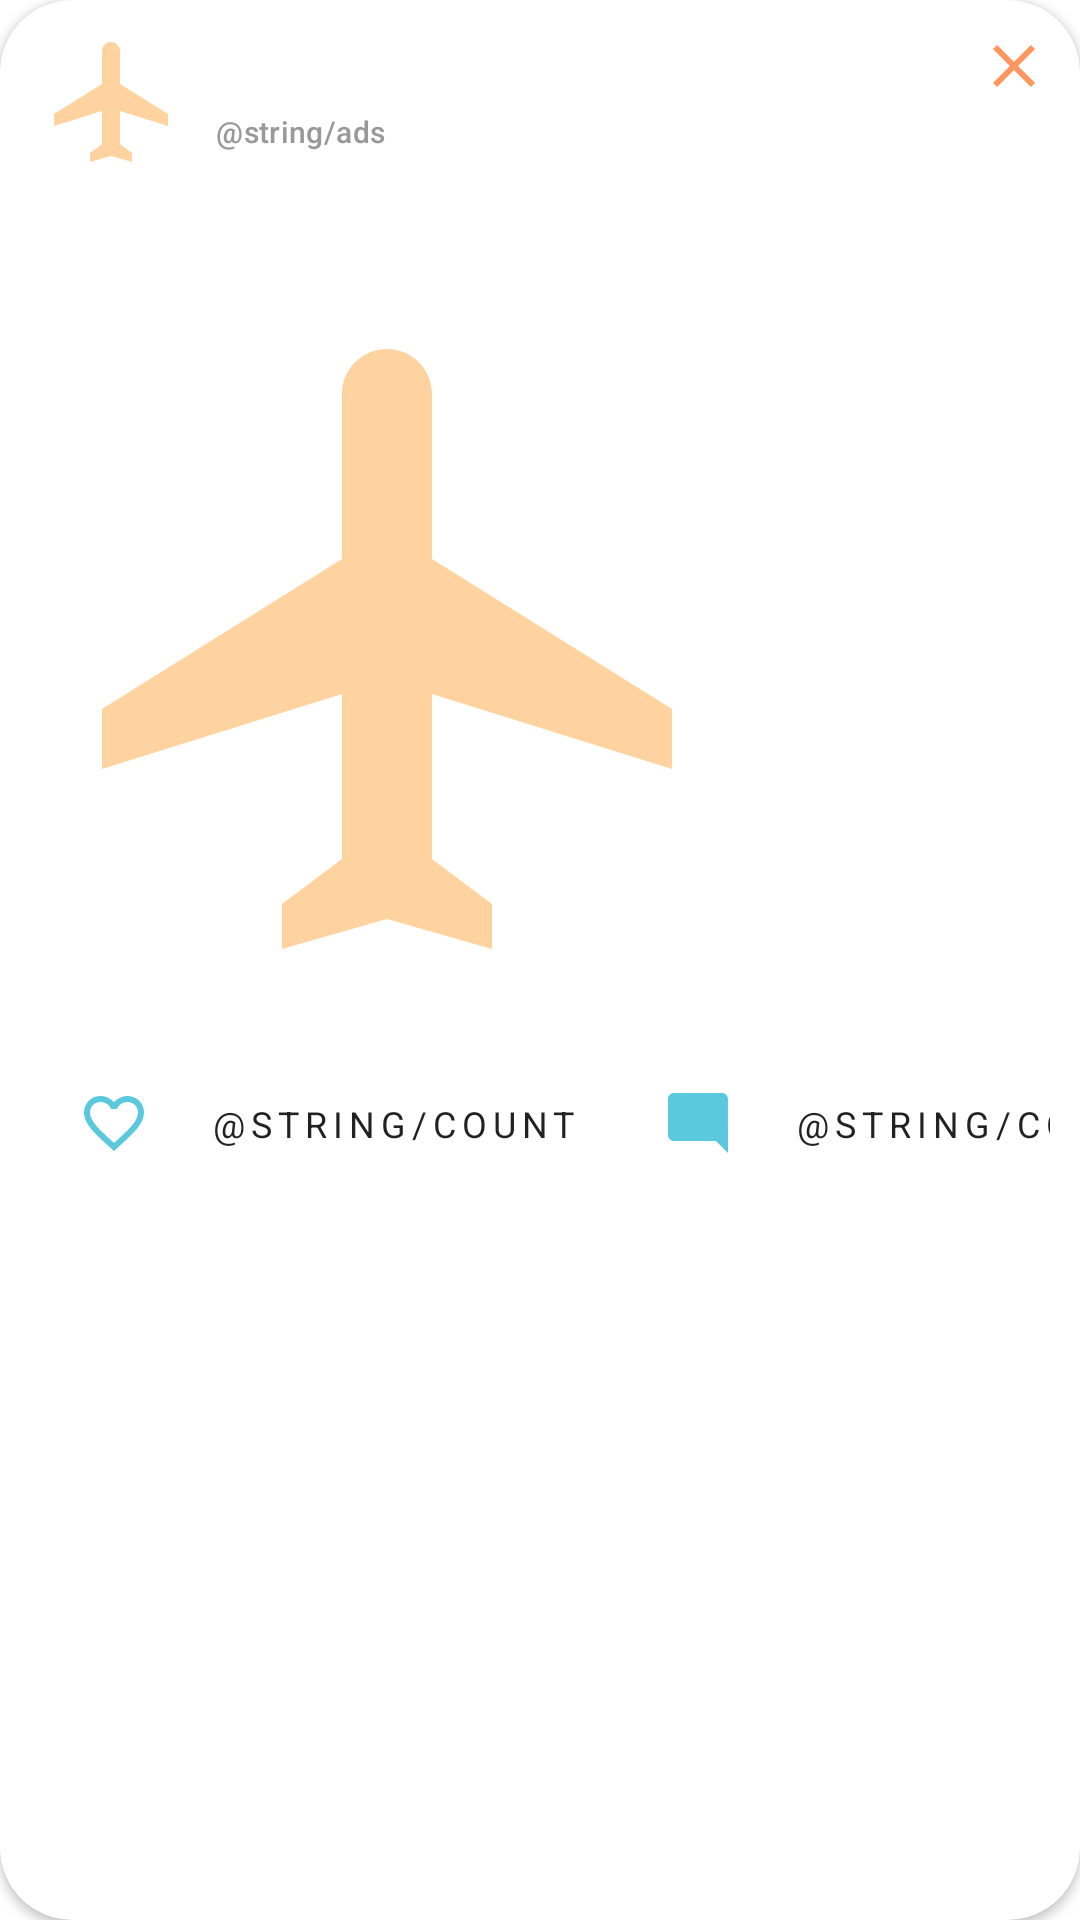

Screen size 1080x1920. Icon name, then its box in pixels as bbox=[x1, y1, x2, y2]:
clear: bbox=[993, 45, 1035, 87]
favorite border: bbox=[84, 1096, 144, 1151]
